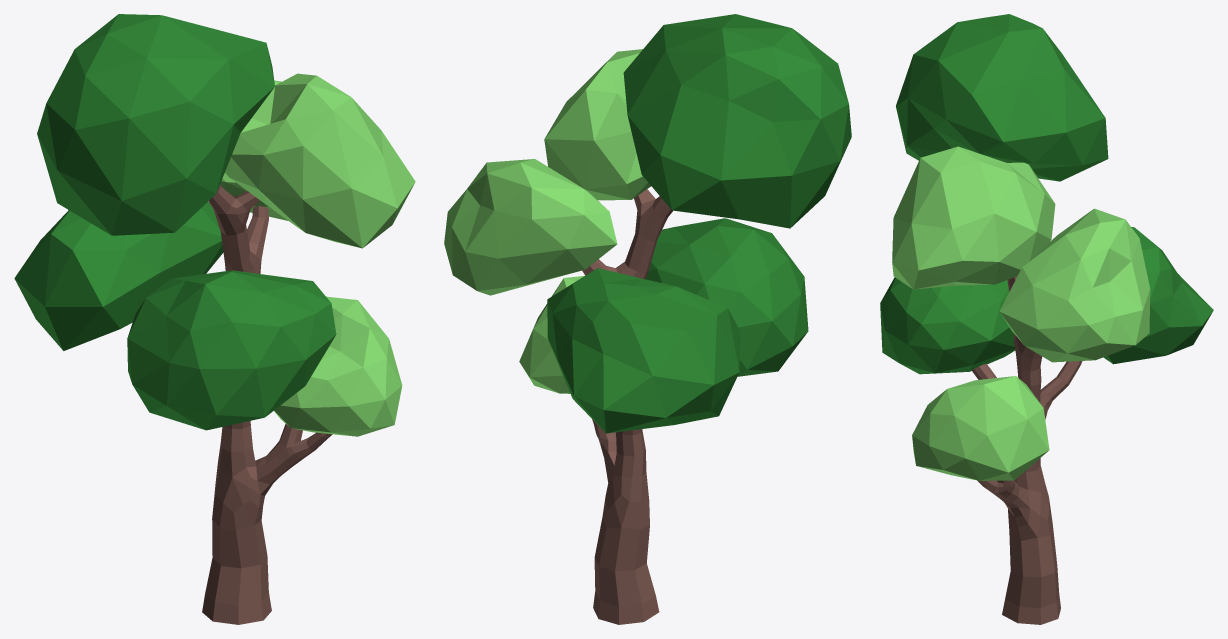
File: Tree_2.fbx
3 renders of one model, left to right at view 1: azimuth 30°, elevation 25°; view 2: azimuth 150°, elevation 25°; view 3: azimuth 270°, elevation 25°, orthographic. The views are drawn at different scales.
Visible parts, largest first — view 1: tree1_Icosphere.012; view 2: tree1_Icosphere.012; view 3: tree1_Icosphere.012.
Part boxes in pixels (x1,y1,x2,y2): tree1_Icosphere.012: (14,14,415,624); tree1_Icosphere.012: (444,14,851,624); tree1_Icosphere.012: (880,14,1213,624).
Size of the model in its own units: 1277 by 2139 by 1189.
